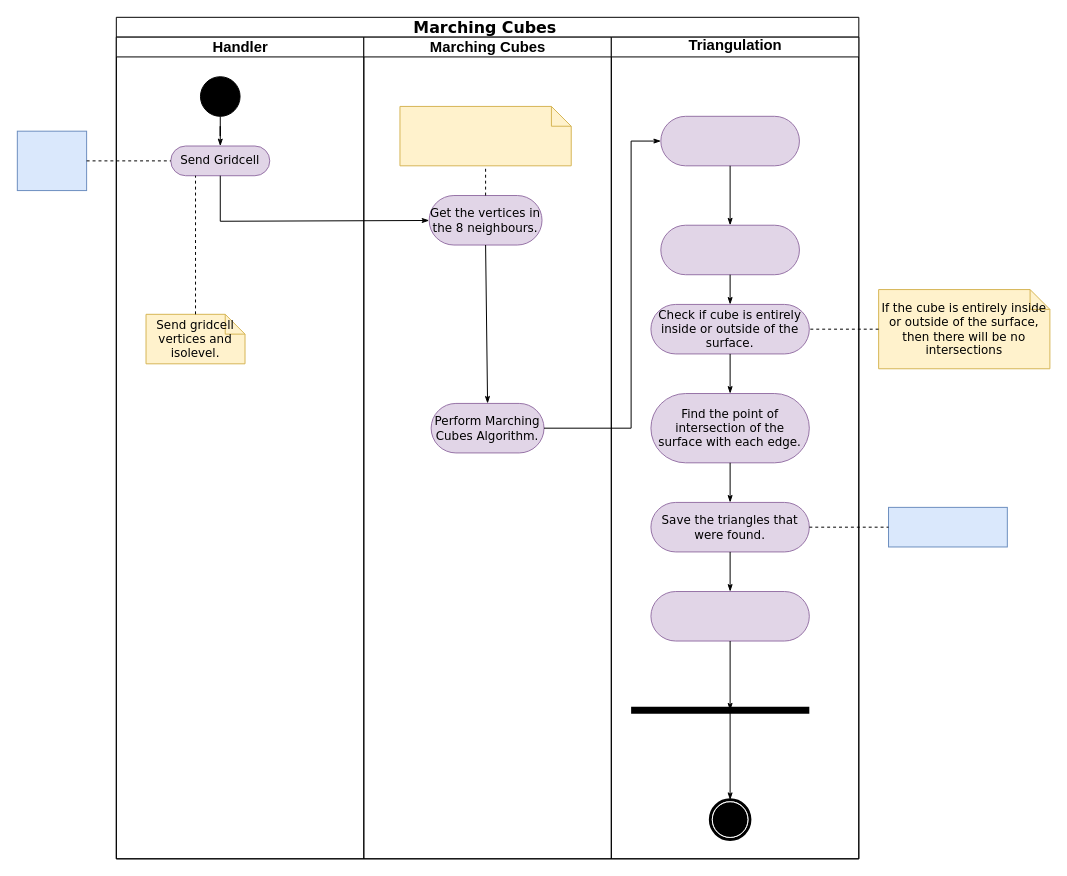
Image size: 1067x876. Some labels were removed from this diagram. The shapes that lost their labels are listed below. From the top down, each one's centre as x and y in pixels, then its label:
At (x=485, y=135): "256 possible case down to 15 cases with reflections for visualization.".
At (x=729, y=140): "Find the vertices that outside of the surface and mark.".
At (x=51, y=160): "Struct Cube[]; Float Surface".
At (x=729, y=249): "Find which edges are intersected by the surface.".
At (x=947, y=526): "int Vertex; int[] IndexList; vec3[] VertexList;".
At (x=729, y=616): "Draw Triangles.".
